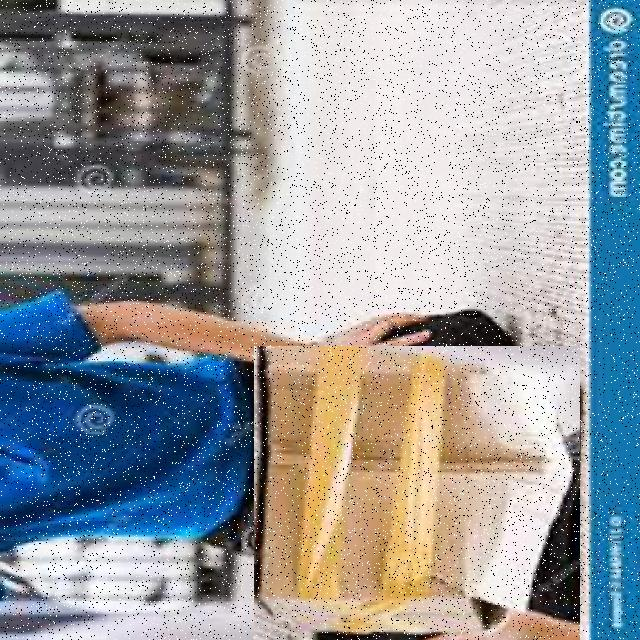defect: (254, 346, 580, 640)
